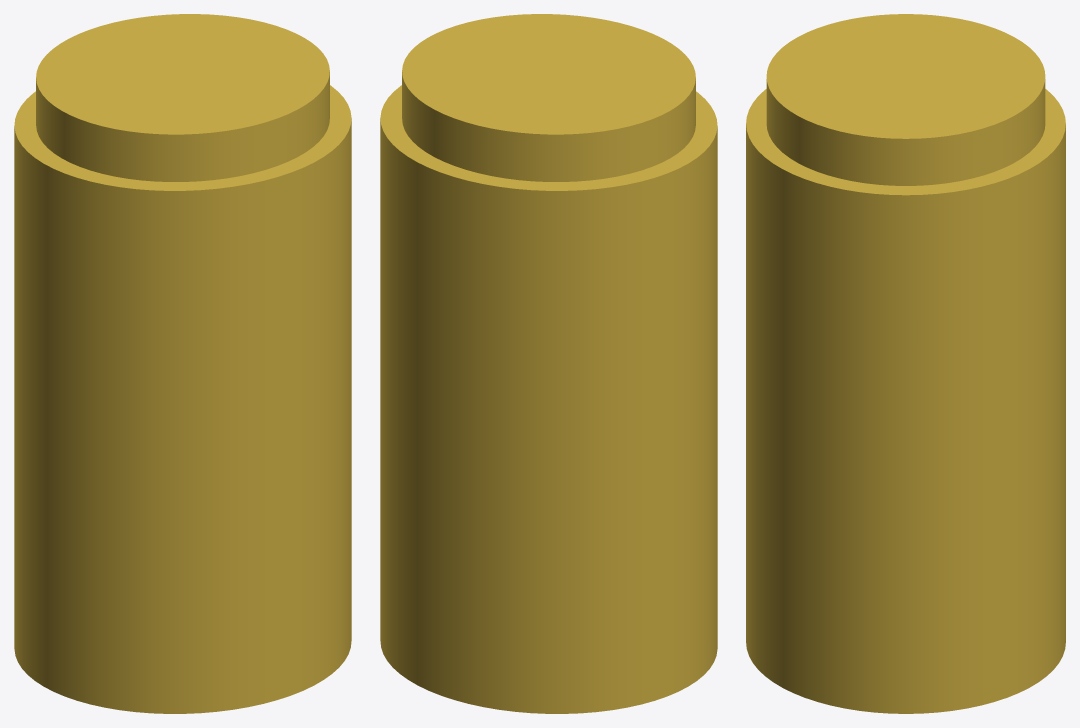
The picture shows the model from 3 angles, left to right: view 1: azimuth 30°, elevation 25°; view 2: azimuth 150°, elevation 25°; view 3: azimuth 270°, elevation 25°; orthographic projection.
Visible parts, largest first — view 1: body, cap; view 2: body, cap; view 3: body, cap.
Part boxes in pixels (box(x1,y1,x2,y2)): body: box(14, 85, 351, 713); cap: box(36, 14, 329, 181); body: box(380, 85, 717, 713); cap: box(402, 14, 695, 181); body: box(746, 89, 1065, 713); cap: box(766, 14, 1045, 185).
Size of the model in its own units: 0.1629 by 0.3 by 0.1537.
